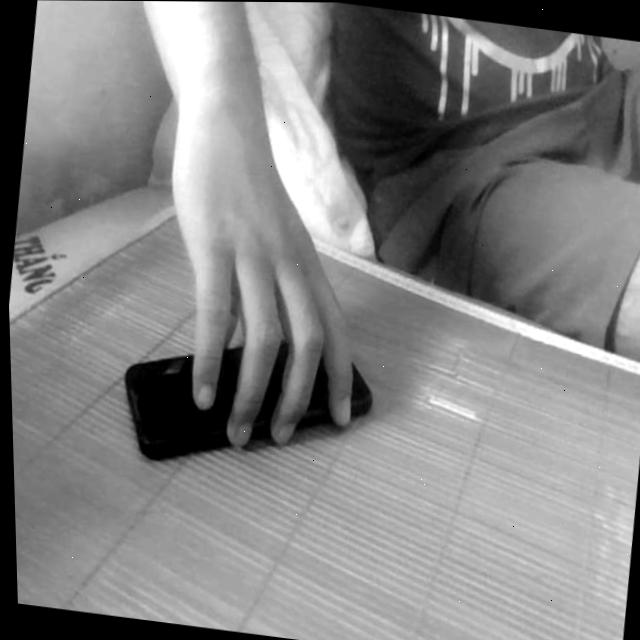phone: (97, 282, 396, 505)
